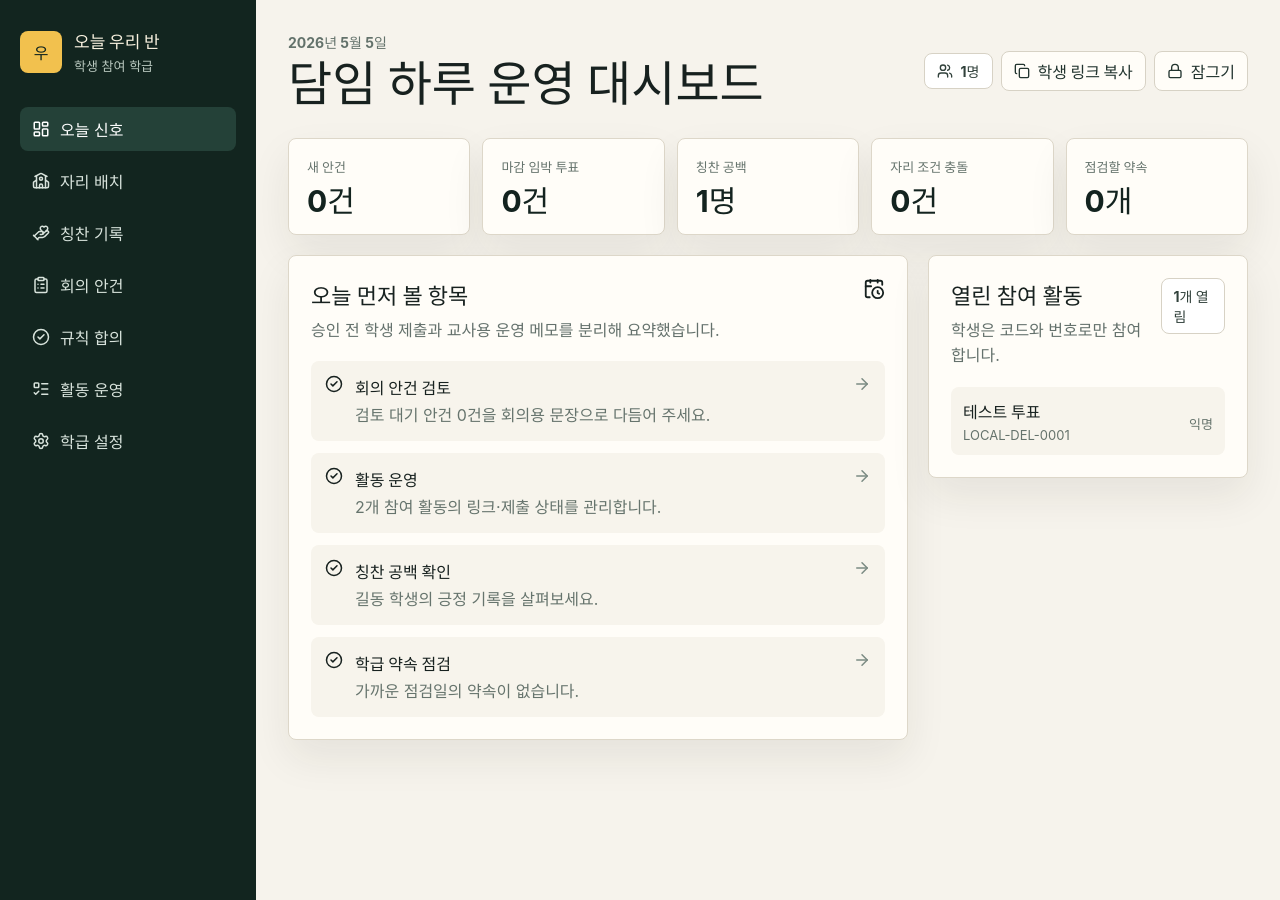
it: homeroom app workflows › keeps local submission deletion working when cloud config is disabled
What coordinates should you click on to do the following:
click the button "활동 운영"
I would click on:
 (128, 389)
Its box is [20,367,236,411].
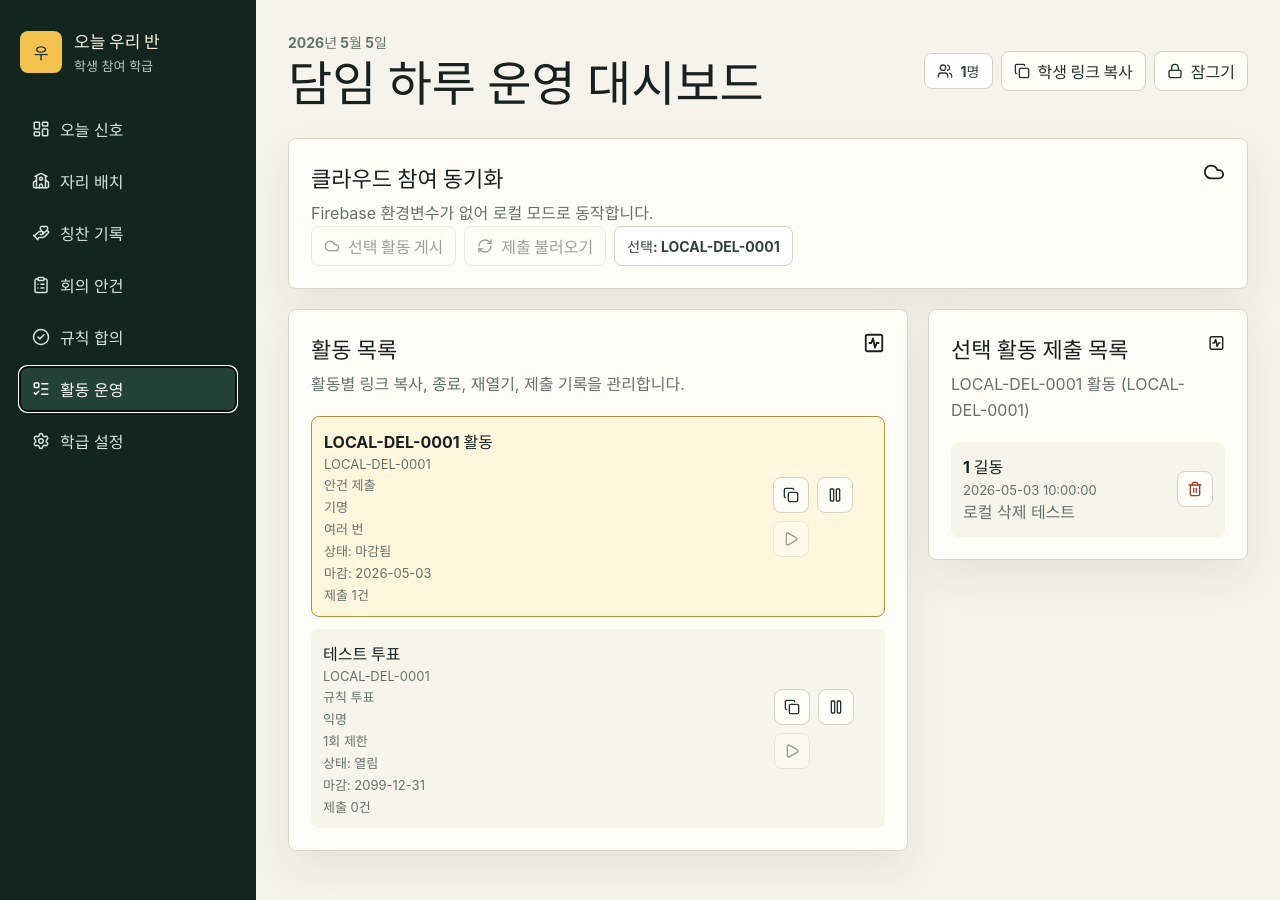
What coordinates should you click on to do the following:
click the button "LOCAL-DEL-0001"
I would click on:
 (408, 442)
Its box is [324,429,761,604].
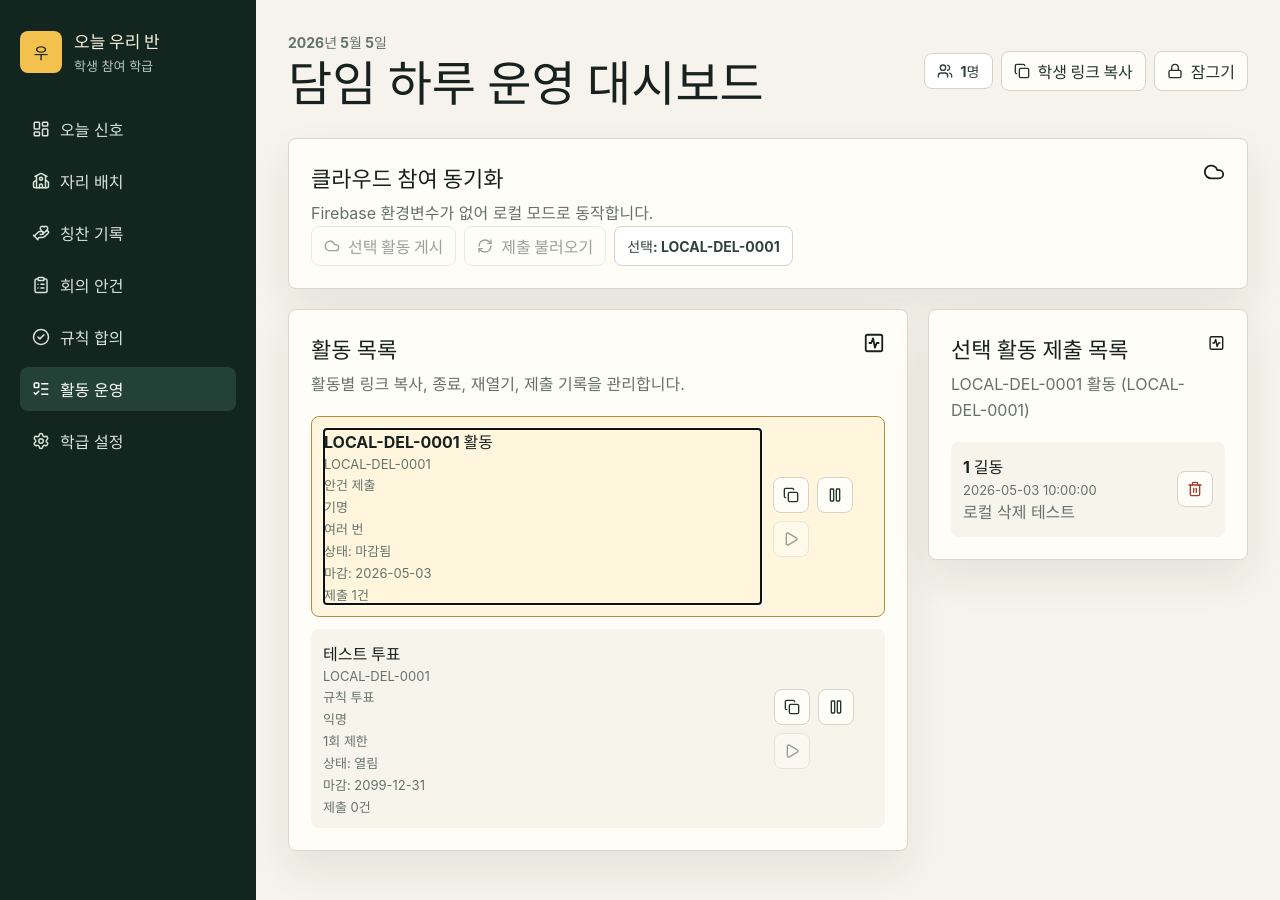
What coordinates should you click on to do the following:
click the button named "제출 삭제"
I would click on:
 (1195, 489)
Its box is [1177,471,1213,507].
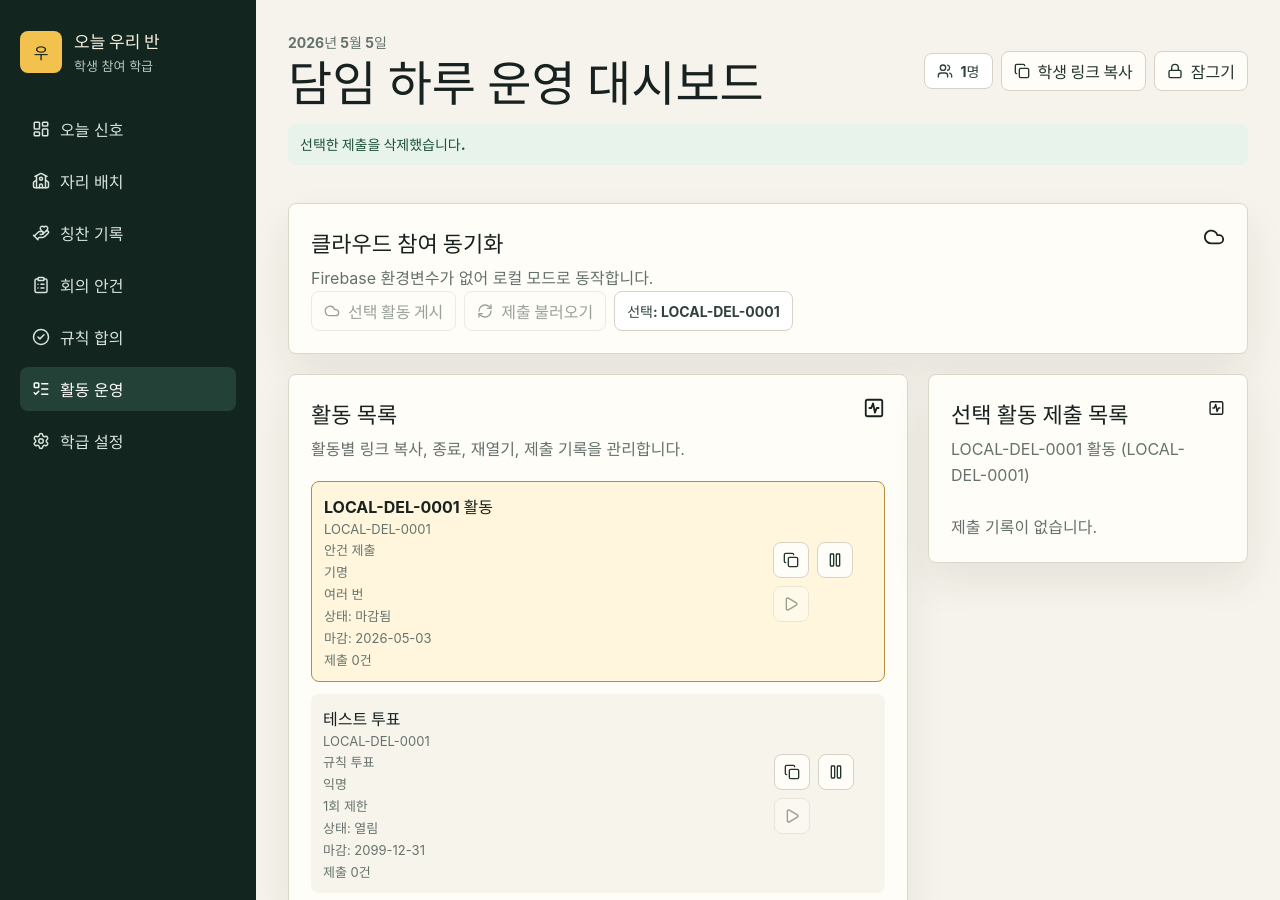
Now the message reads "선택한 제출을 삭제했습니다.", box [300,136,466,153]
Now the text "로컬 삭제 테스트" is gone
Now the text "제출 기록이 없습니다." is shown, box [951,517,1097,537]
